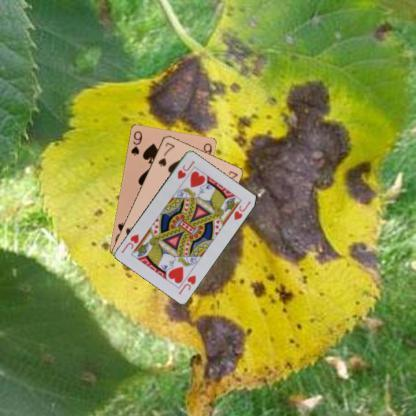7s: (155, 139, 176, 168)
9s: (128, 128, 144, 157)
Jh: (176, 272, 197, 296), (174, 158, 196, 180)
